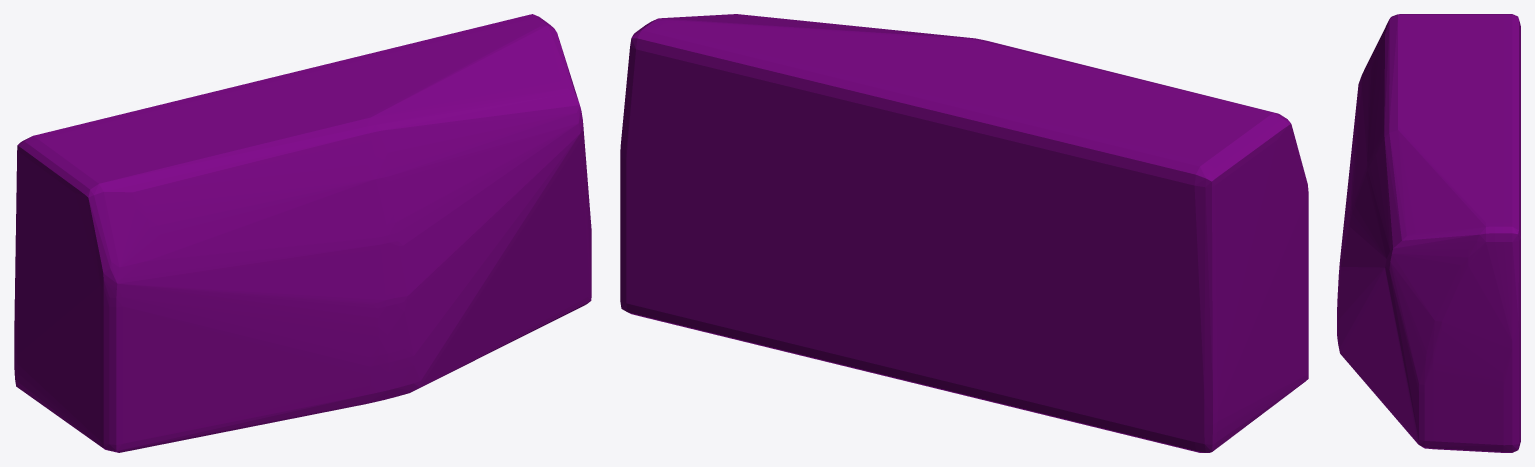
The model's file is left_shoulder_pitch_link_part_11.obj.
3 views of the same model, side by side, from view 1: azimuth 30°, elevation 25°; view 2: azimuth 150°, elevation 25°; view 3: azimuth 270°, elevation 25° (orthographic). The views are drawn at different scales.
Bounding box in the file's own units: 0.0594 × 0.0273 × 0.0204.
